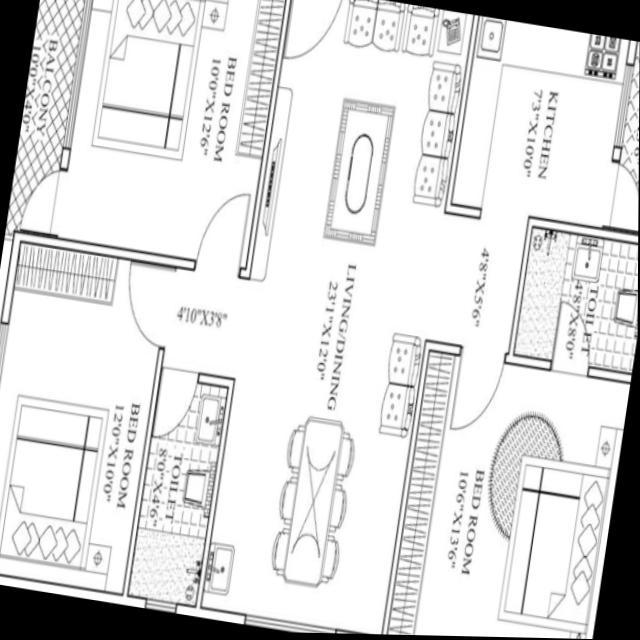Balcony-Sitout: (5, 0, 87, 250)
Bedroom: (0, 239, 180, 608), (54, 0, 289, 273)
Bedroom with Toilet: (387, 220, 639, 639)
Dining: (260, 392, 367, 606)
Kitchen: (449, 16, 637, 239)
Living: (241, 0, 476, 312)
Toilet: (122, 368, 236, 619), (509, 214, 639, 384)
Utility: (604, 41, 640, 249)
